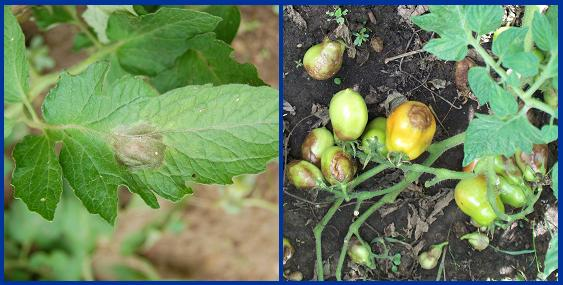Tomato leaf late blight: (14, 56, 278, 221)
